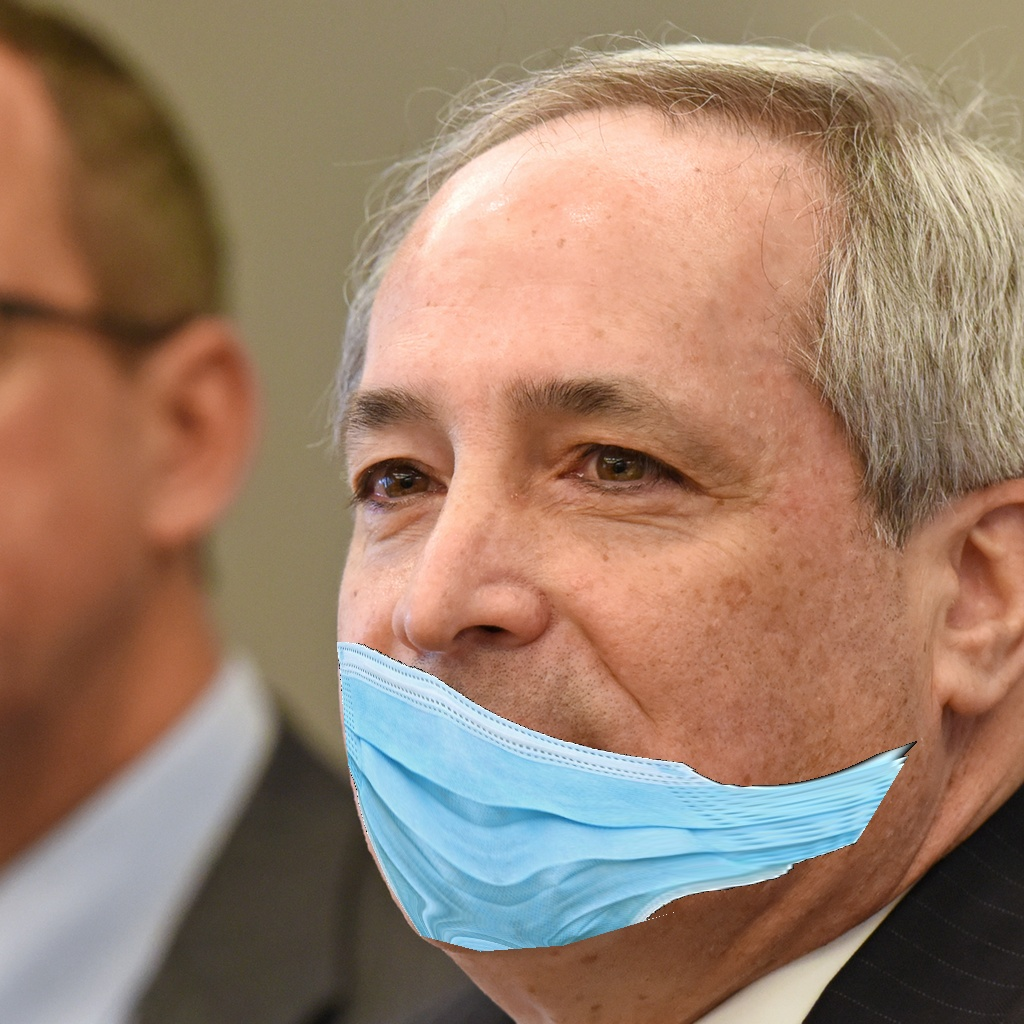mascarilla_mal_puesta: (313, 350, 961, 965)
